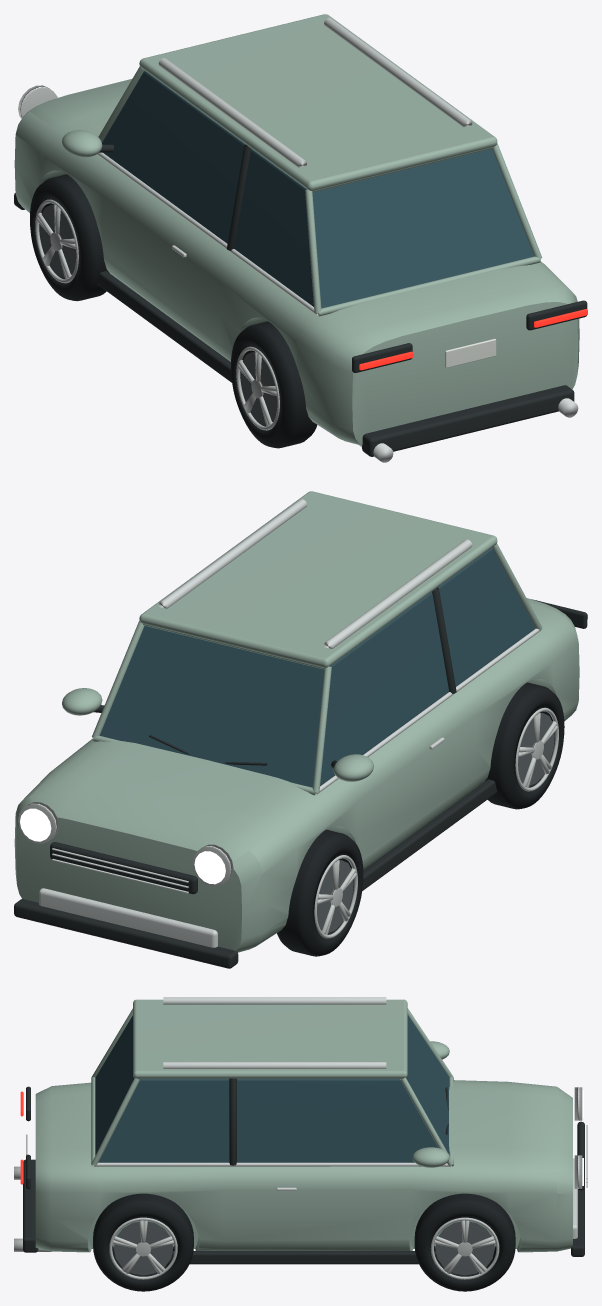
Rendered from ridge-x.glb.
The picture shows the model from 3 angles, top to bottom: view 1: azimuth 30°, elevation 25°; view 2: azimuth 150°, elevation 25°; view 3: azimuth 270°, elevation 25°; orthographic projection. The views are drawn at different scales.
Parts seen in each view (by area): view 1: ridge-x_Paint, ridge-x_Smoked glass, ridge-x_Graphite, ridge-x_Satin aluminium, Spin_RL.002_Rubber, Spin_FL.002_Rubber, Spin_FL.002_WheelFinish, Spin_RL.002_WheelFinish, Spin_RL.002_Brake steel, Spin_FL.002_Brake steel, ridge-x_Ivory, ridge-x_Tail lamp; view 2: ridge-x_Paint, ridge-x_Smoked glass, ridge-x_Graphite, ridge-x_Satin aluminium, Spin_FL.002_Rubber, Spin_RL.002_Rubber, Spin_FL.002_WheelFinish, Spin_RL.002_WheelFinish, ridge-x_Headlamp, Spin_FL.002_Brake steel, Spin_RL.002_Brake steel; view 3: ridge-x_Paint, ridge-x_Smoked glass, ridge-x_Satin aluminium, ridge-x_Graphite, Spin_RR.002_Rubber, Spin_FR.002_Rubber, Spin_FR.002_Brake steel, Spin_RR.002_Brake steel, Spin_RR.002_WheelFinish, Spin_FR.002_WheelFinish.
Part boxes in pixels (bbox=[...]): ridge-x_Paint: bbox=[14, 14, 579, 445]; ridge-x_Smoked glass: bbox=[102, 71, 534, 308]; ridge-x_Graphite: bbox=[14, 144, 587, 456]; ridge-x_Satin aluminium: bbox=[18, 17, 578, 462]; Spin_RL.002_Rubber: bbox=[231, 321, 317, 448]; Spin_FL.002_Rubber: bbox=[30, 174, 109, 301]; Spin_FL.002_WheelFinish: bbox=[35, 199, 78, 283]; Spin_RL.002_WheelFinish: bbox=[236, 346, 279, 430]; Spin_RL.002_Brake steel: bbox=[240, 351, 277, 424]; Spin_FL.002_Brake steel: bbox=[39, 204, 76, 277]; ridge-x_Ivory: bbox=[445, 338, 496, 368]; ridge-x_Tail lamp: bbox=[359, 309, 587, 370]; ridge-x_Paint: bbox=[14, 491, 579, 952]; ridge-x_Smoked glass: bbox=[100, 548, 535, 787]; ridge-x_Graphite: bbox=[14, 587, 587, 968]; ridge-x_Satin aluminium: bbox=[18, 499, 539, 947]; Spin_FL.002_Rubber: bbox=[277, 829, 363, 956]; Spin_RL.002_Rubber: bbox=[485, 682, 564, 809]; Spin_FL.002_WheelFinish: bbox=[314, 855, 357, 938]; Spin_RL.002_WheelFinish: bbox=[515, 707, 558, 791]; ridge-x_Headlamp: bbox=[20, 808, 225, 884]; Spin_FL.002_Brake steel: bbox=[317, 860, 353, 932]; Spin_RL.002_Brake steel: bbox=[518, 713, 554, 785]; ridge-x_Paint: bbox=[35, 999, 572, 1252]; ridge-x_Smoked glass: bbox=[95, 1015, 449, 1162]; ridge-x_Satin aluminium: bbox=[14, 997, 587, 1251]; ridge-x_Graphite: bbox=[23, 1078, 584, 1264]; Spin_RR.002_Rubber: bbox=[93, 1193, 193, 1291]; Spin_FR.002_Rubber: bbox=[414, 1193, 515, 1291]; Spin_FR.002_Brake steel: bbox=[435, 1221, 494, 1275]; Spin_RR.002_Brake steel: bbox=[113, 1222, 173, 1275]; Spin_RR.002_WheelFinish: bbox=[109, 1217, 177, 1279]; Spin_FR.002_WheelFinish: bbox=[430, 1217, 499, 1279].
Size of the model in its own units: 2.4 by 1.98 by 4.89.
